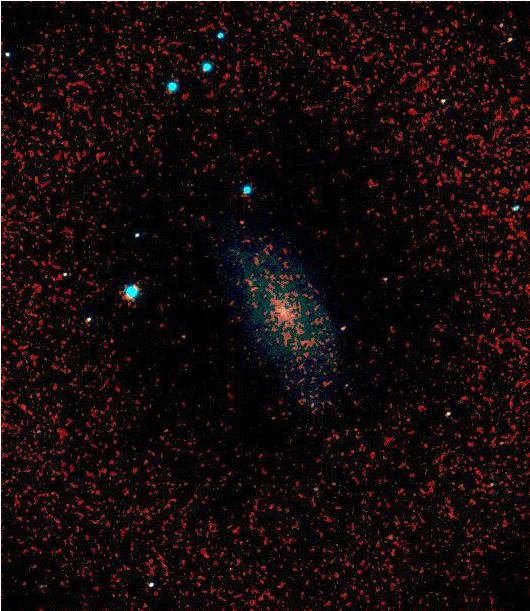star: (135, 571, 165, 601)
